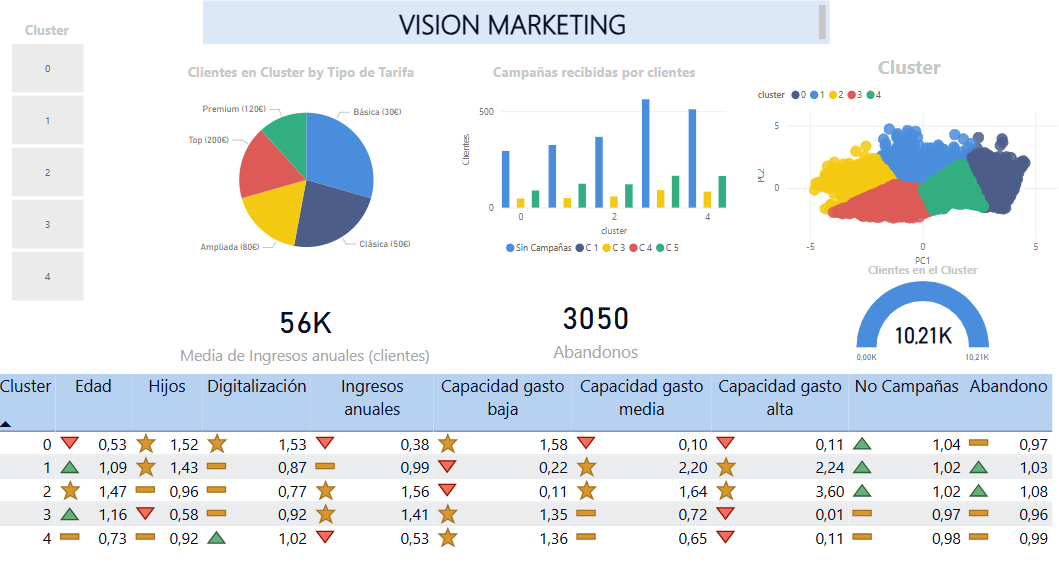

What the dashboard file says about the page in this screenshot:
{"tool":"powerbi","page":{"name":"Marketing","canvas":[1280,720],"ordinal":1},"visuals":[{"type":"clusteredColumnChart","title":"Campañas recibidas por clientes","fields":{"Category":["cluster.cluster"],"Y":["Sum(cluster.Campanna_0)","Sum(cluster.Campanna_1)","Sum(cluster.Campanna_3)","Sum(cluster.Campanna_4)","Sum(cluster.Campanna_5)"]},"box":[557.4,81.5,324.1,238.9],"z":0},{"type":"slicer","title":"Cluster","fields":{"Values":["cluster.cluster"]},"box":[0,31.5,135.2,340.7],"z":1000},{"type":"card","fields":{"Values":["Sum(cluster.Abandono)"]},"box":[585.2,340.7,270.4,113],"z":2000},{"type":"pieChart","fields":{"Category":["cluster.Tarifa_Nombre"],"Y":["Count(cluster.cluster)"]},"box":[229.6,81.5,292.6,259.3],"z":3000},{"type":"tableEx","fields":{"Values":["indice_clusters.Cluster","indice_clusters.Edad","indice_clusters.Family_Size","indice_clusters.Digital_encuesta","indice_clusters.Ingresos_anuales_brutos","indice_clusters.Gastoscore_0","indice_clusters.Gastoscore_1","indice_clusters.Gastoscore_2","indice_clusters.Campanna_0","indice_clusters.Abandono_1"]},"box":[0,448.1,1279.6,272.2],"z":4000},{"type":"scatterChart","title":"Cluster","fields":{"Y":["cluster.PC2"],"X":["cluster.PC1"],"Series":["cluster.cluster"]},"box":[909.3,72.2,370.4,259.3],"z":5000},{"type":"card","fields":{"Values":["Avg(cluster.Ingresos_anuales_brutos)"]},"box":[211.1,355.6,327.8,92.6],"z":6000},{"type":"gauge","title":"Clientes en el Cluster","fields":{"Y":["CountNonNull(cluster.cluster)"]},"box":[1018.5,320.4,185.2,127.8],"z":7000},{"type":"textbox","box":[253.7,9.3,746.3,51.9],"z":8000}]}

Visuals, with their boxes in screenshot pixels (x1, y1, x2, y2), scaled from the page's 1280x720 canvas onto the 1059x580 screenshot:
"Campañas recibidas por clientes" clusteredColumnChart: (461, 66, 729, 258)
"Cluster" slicer: (0, 25, 112, 300)
card - Sum(cluster.Abandono): (484, 274, 708, 365)
pieChart - cluster.Tarifa_Nombre x Count(cluster.cluster): (190, 66, 432, 275)
tableEx - indice_clusters.Cluster x indice_clusters.Edad: (0, 361, 1058, 579)
"Cluster" scatterChart: (752, 58, 1058, 267)
card - Avg(cluster.Ingresos_anuales_brutos): (175, 286, 446, 361)
"Clientes en el Cluster" gauge: (843, 258, 996, 361)
textbox: (210, 7, 827, 49)
